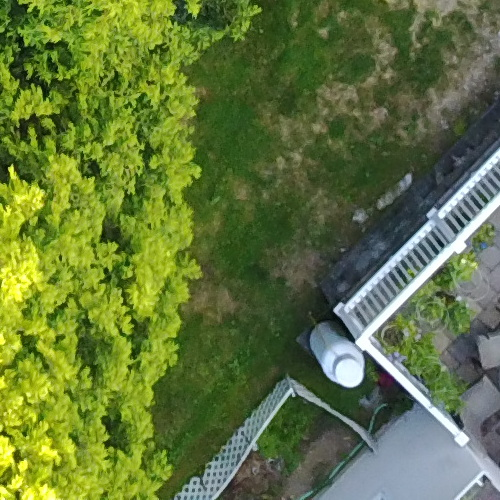flower pot: (426, 287, 482, 342), (365, 318, 416, 362)
porch: (269, 122, 500, 495)
